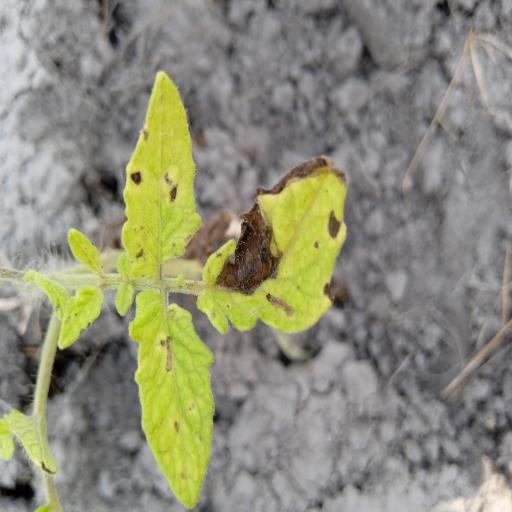Tomato_Brown_Spots: (194, 153, 350, 335), (126, 281, 215, 512), (118, 66, 204, 277)
